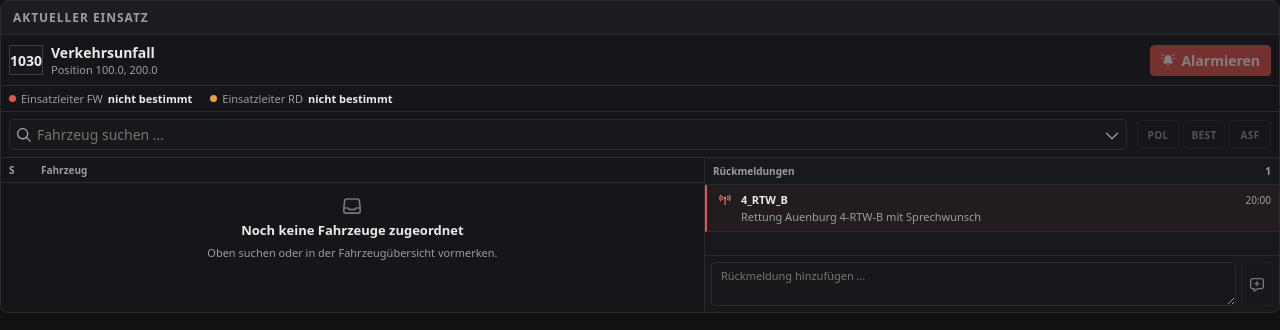
Test: Aktueller Einsatz › zeigt ohne Suchtext alle verfügbaren Fahrzeuge im Dropdown
Focus the field with placeholder "Fahrzeug suchen …" at [568, 134], box left=37, top=120, right=1099, bottom=149
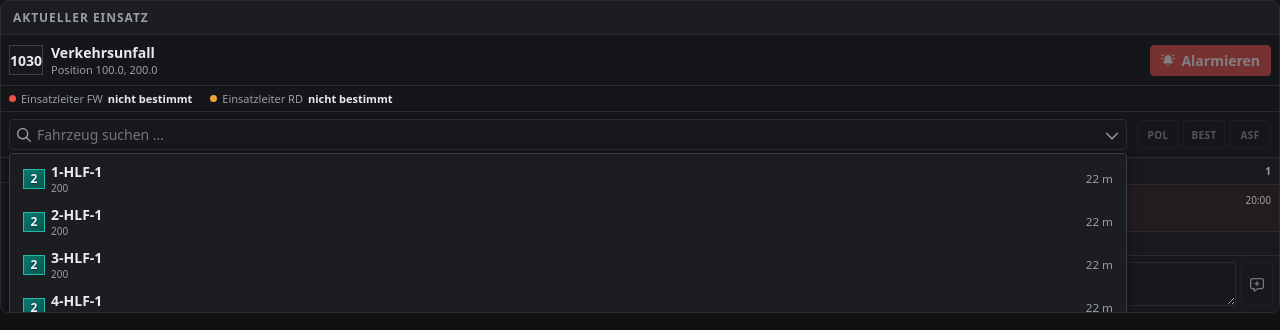
Expected: the text "1-HLF-1" is shown 12 times
